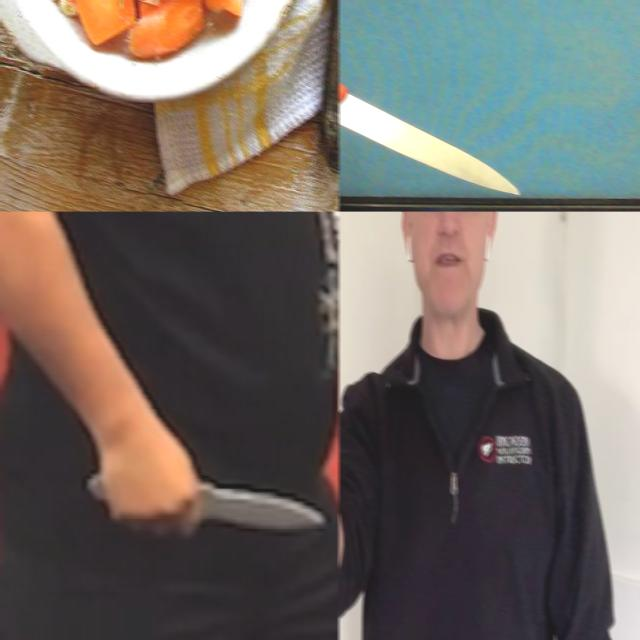Knife: (338, 84, 520, 194), (194, 478, 326, 530)
Knife_Handle: (338, 2, 542, 211), (84, 449, 324, 539)
